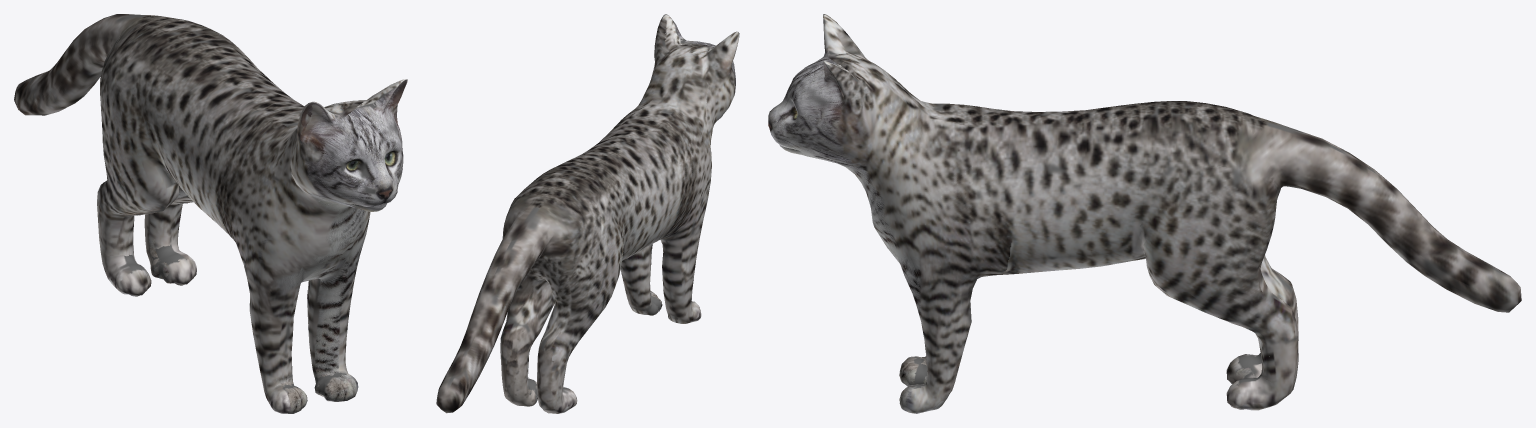
File: EgyptianMau.glb
3 renders of one model, left to right at view 1: azimuth 30°, elevation 25°; view 2: azimuth 150°, elevation 25°; view 3: azimuth 270°, elevation 25°, orthographic. The views are drawn at different scales.
Visible parts, largest first — view 1: high_poly; view 2: high_poly; view 3: high_poly.
Boxes of the visible parts, left/top/right/bottom form: high_poly: left=14, top=14, right=407, bottom=413; high_poly: left=436, top=14, right=739, bottom=413; high_poly: left=768, top=14, right=1521, bottom=413.
Size of the model in its own units: 0.8994 by 2.35 by 4.46.
1 material, 1 textured.
